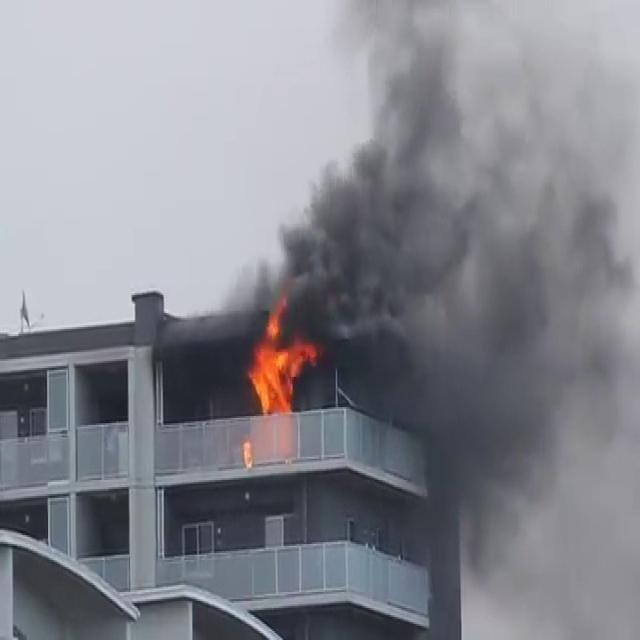Fire: (244, 308, 318, 417)
Smoke: (253, 1, 640, 630), (242, 0, 640, 354)
